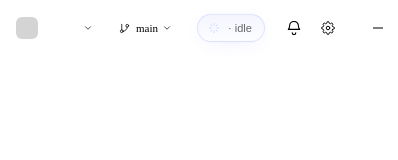
Test: TitleBar — Wave 10 branch dropdown › BranchChip click opens TitleBarBranchDropdown with branch list
What coordinates should you click on to do the following:
click the button "main"
I would click on:
 (146, 28)
Its box is [110,15,181,41].
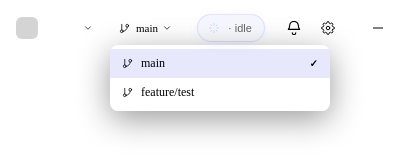
Now the element with test id "titlebar-branch-dropdown" is shown, box [110,45,330,111]
Now the button with test id "titlebar-branch-row-main" is shown, box [110,49,330,78]
Now the button with test id "titlebar-branch-row-feature/test" is shown, box [110,78,330,107]
